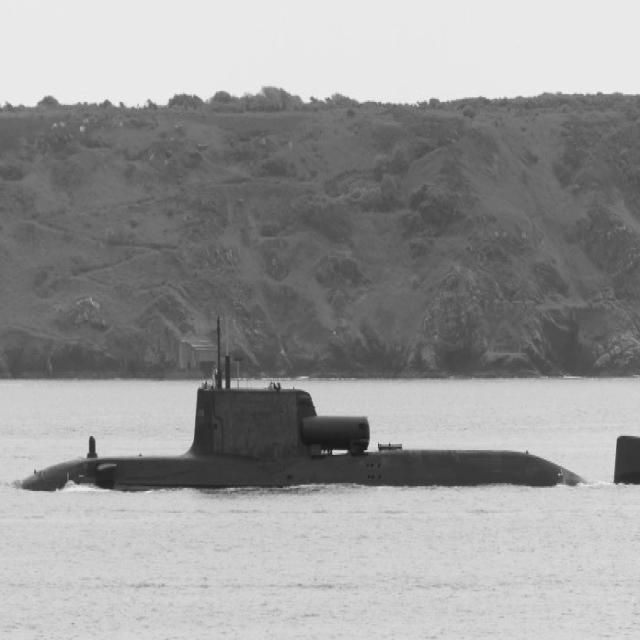submarine: (22, 338, 640, 494)
